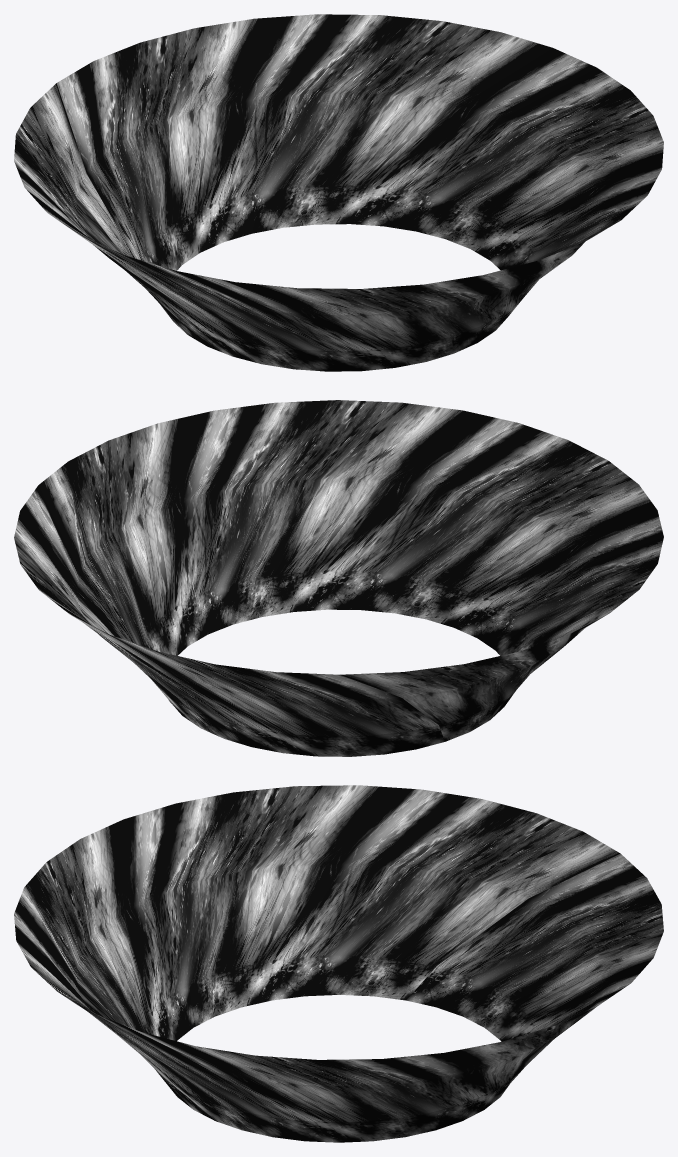
Rendered from aura.fbx.
3 views of the same model, one above another, from view 1: azimuth 30°, elevation 25°; view 2: azimuth 150°, elevation 25°; view 3: azimuth 270°, elevation 25° (orthographic).
Visible parts, largest first — view 1: shock_cone; view 2: shock_cone; view 3: shock_cone.
Part boxes in pixels (bbox=[...]): shock_cone: bbox=[14, 14, 663, 371]; shock_cone: bbox=[14, 400, 663, 756]; shock_cone: bbox=[14, 785, 663, 1142].
Size of the model in its own units: 200 by 49.57 by 200.
